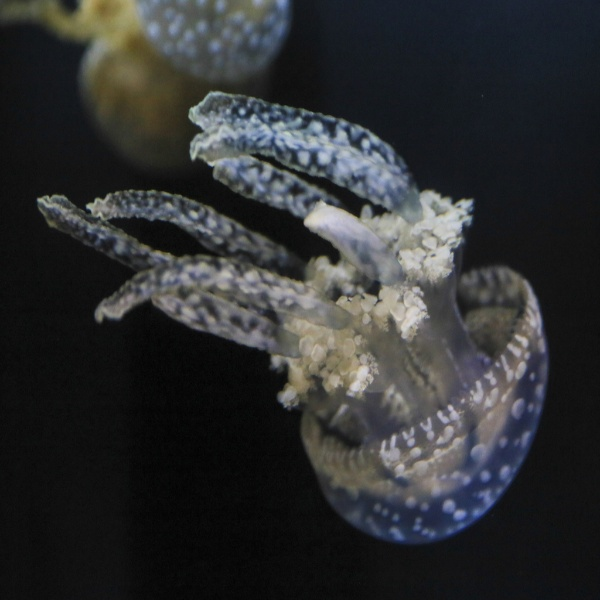Jellyfish: (40, 107, 540, 541), (36, 0, 291, 79)
